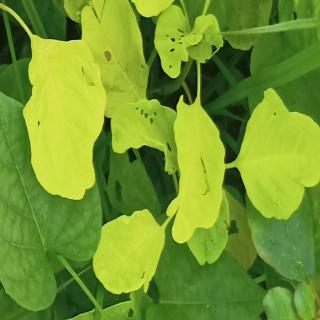kekurangan_mangan: (72, 2, 157, 130)
